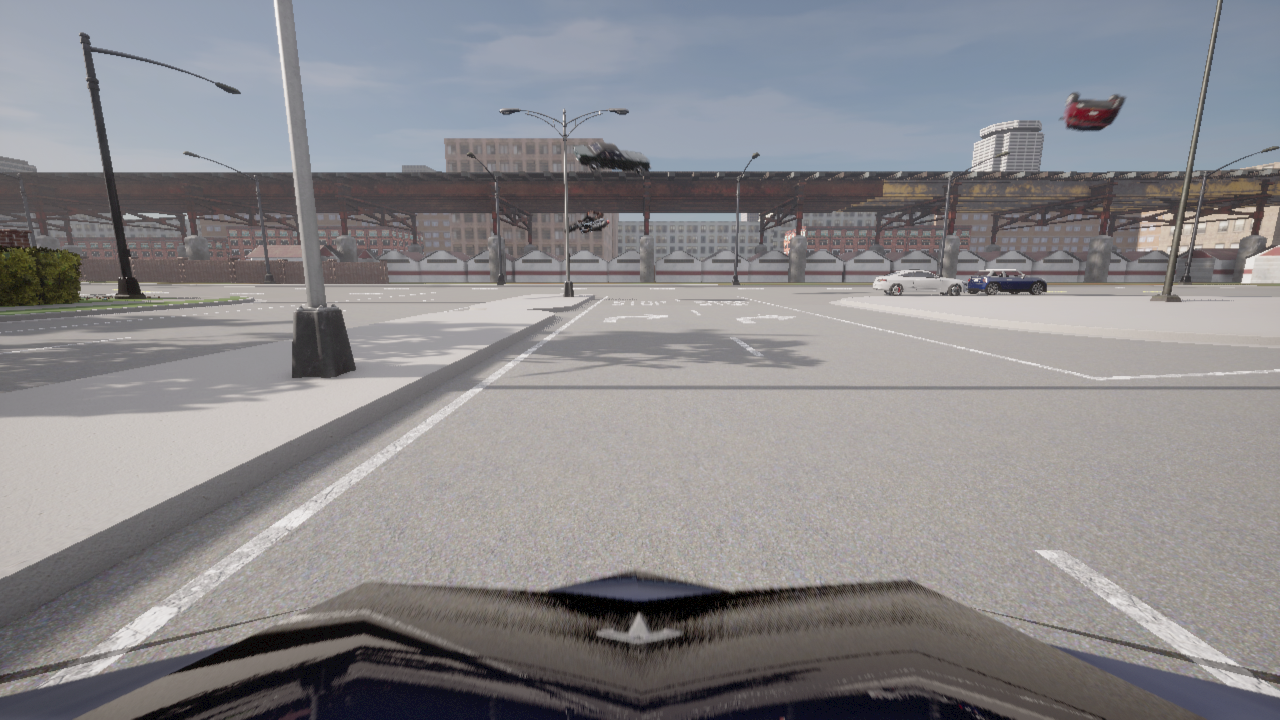cyclist: (0, 569, 1279, 719), (572, 142, 651, 175), (1059, 92, 1125, 131), (873, 270, 967, 295), (967, 269, 1046, 295), (564, 211, 609, 233)
